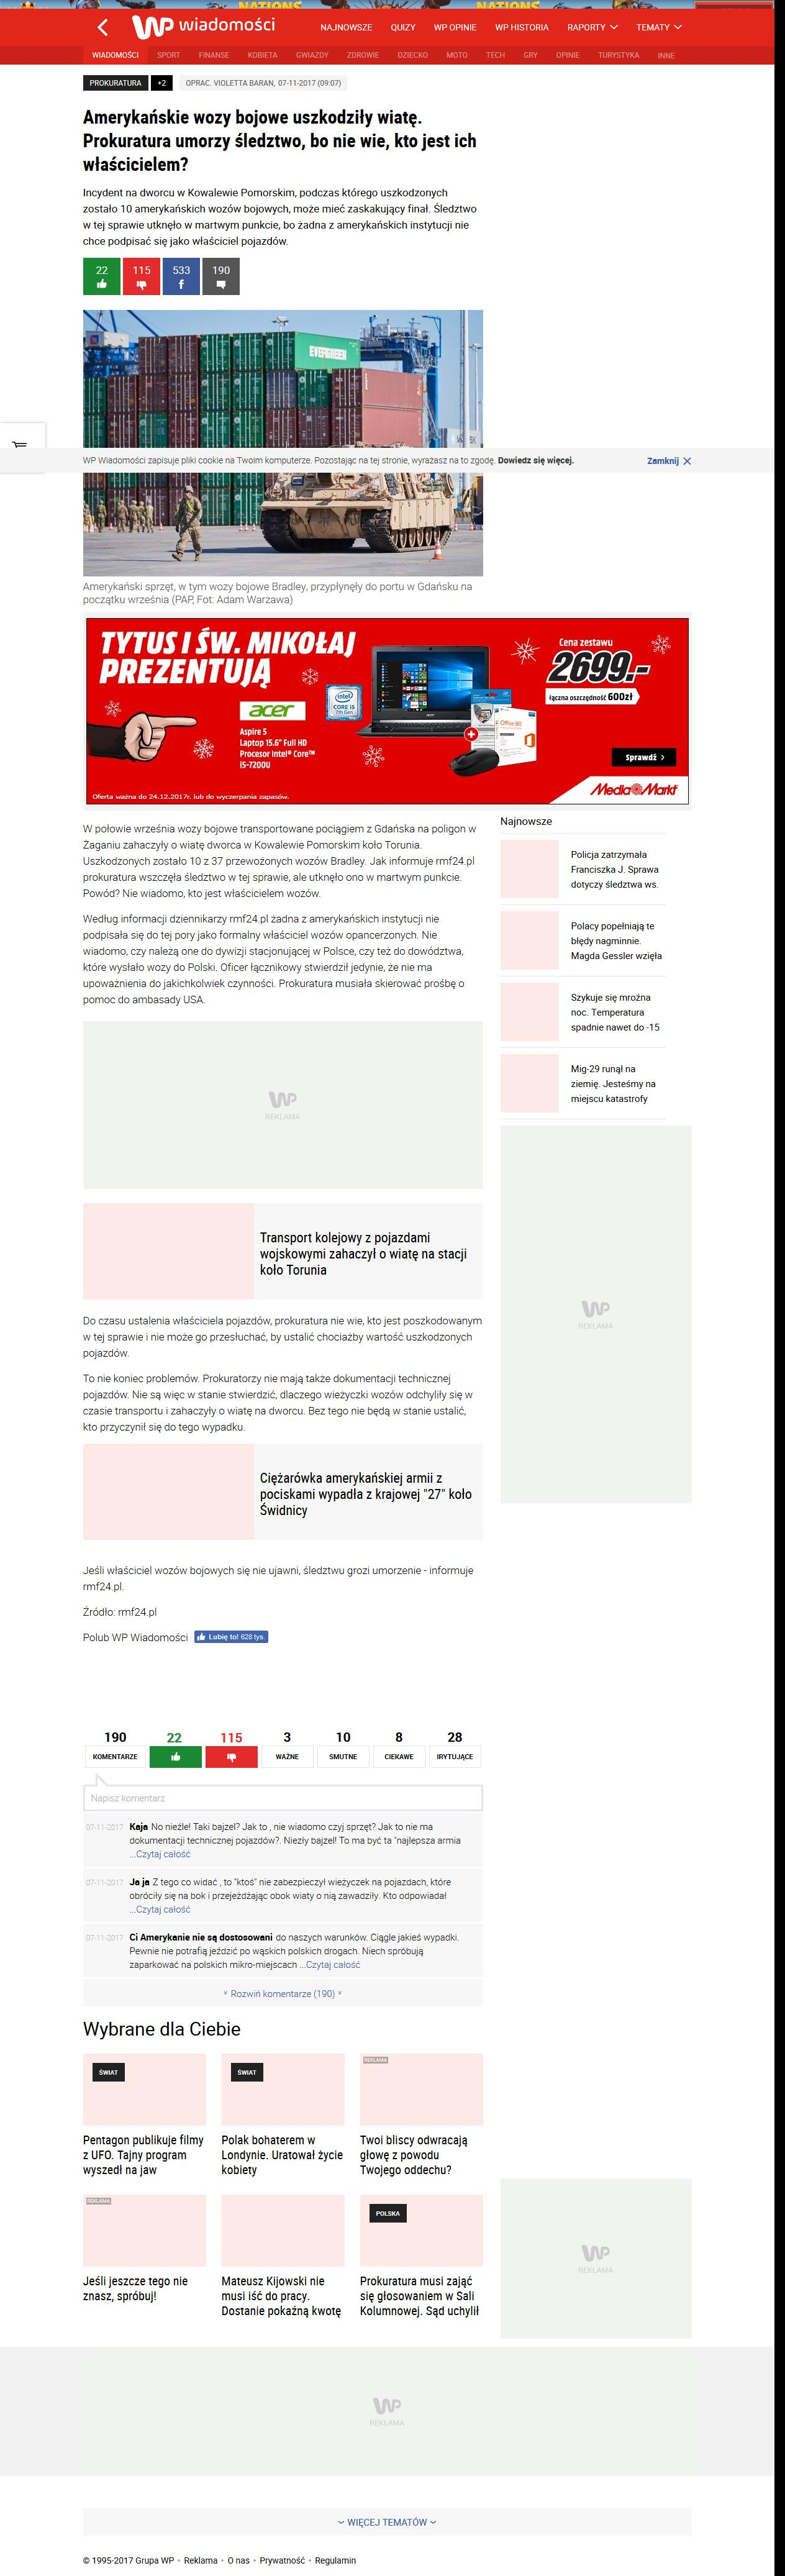title: (82, 107, 480, 176)
